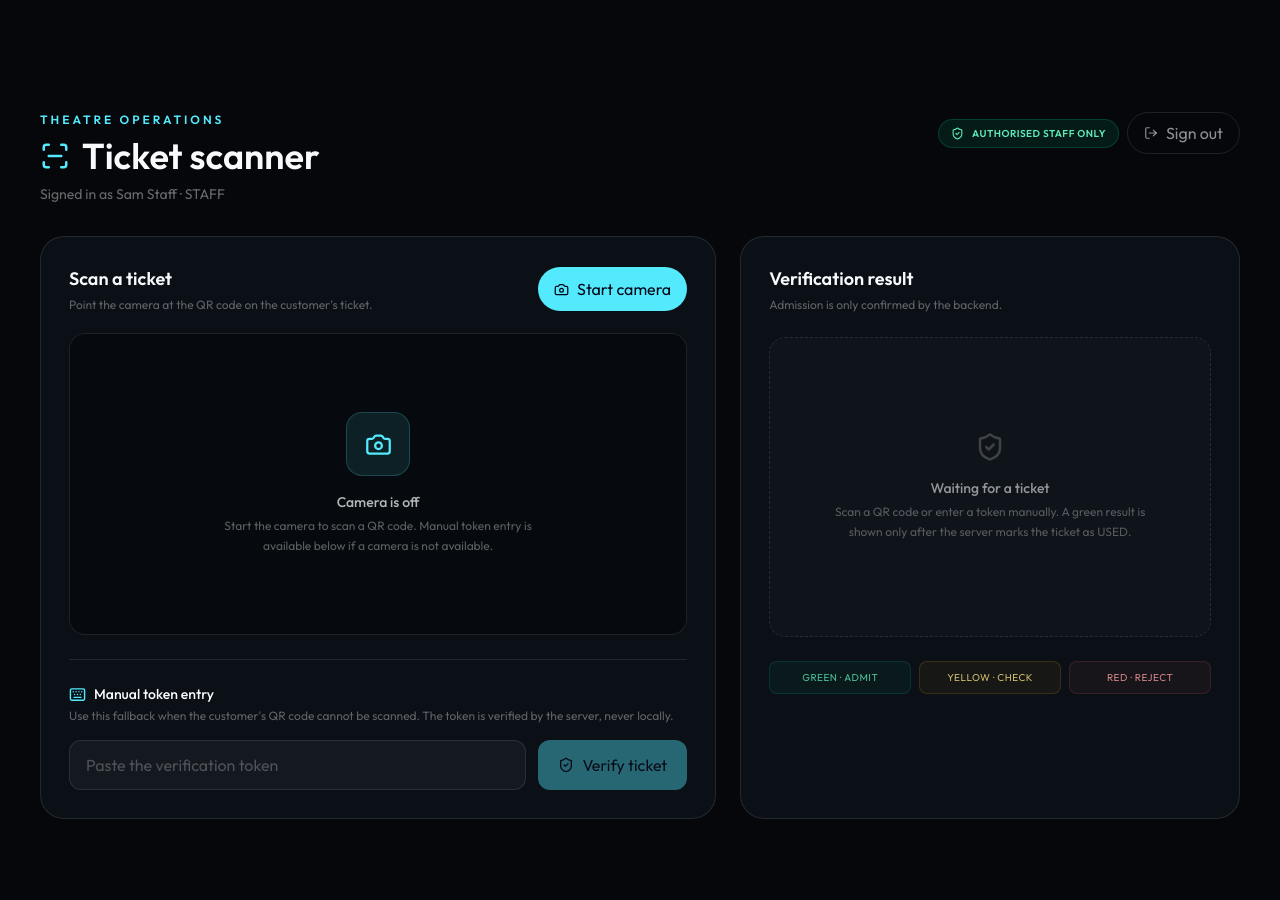
Staff scanner › shows a clear camera permission error
Click the button "Start camera": (613, 289) [538,267,687,311]
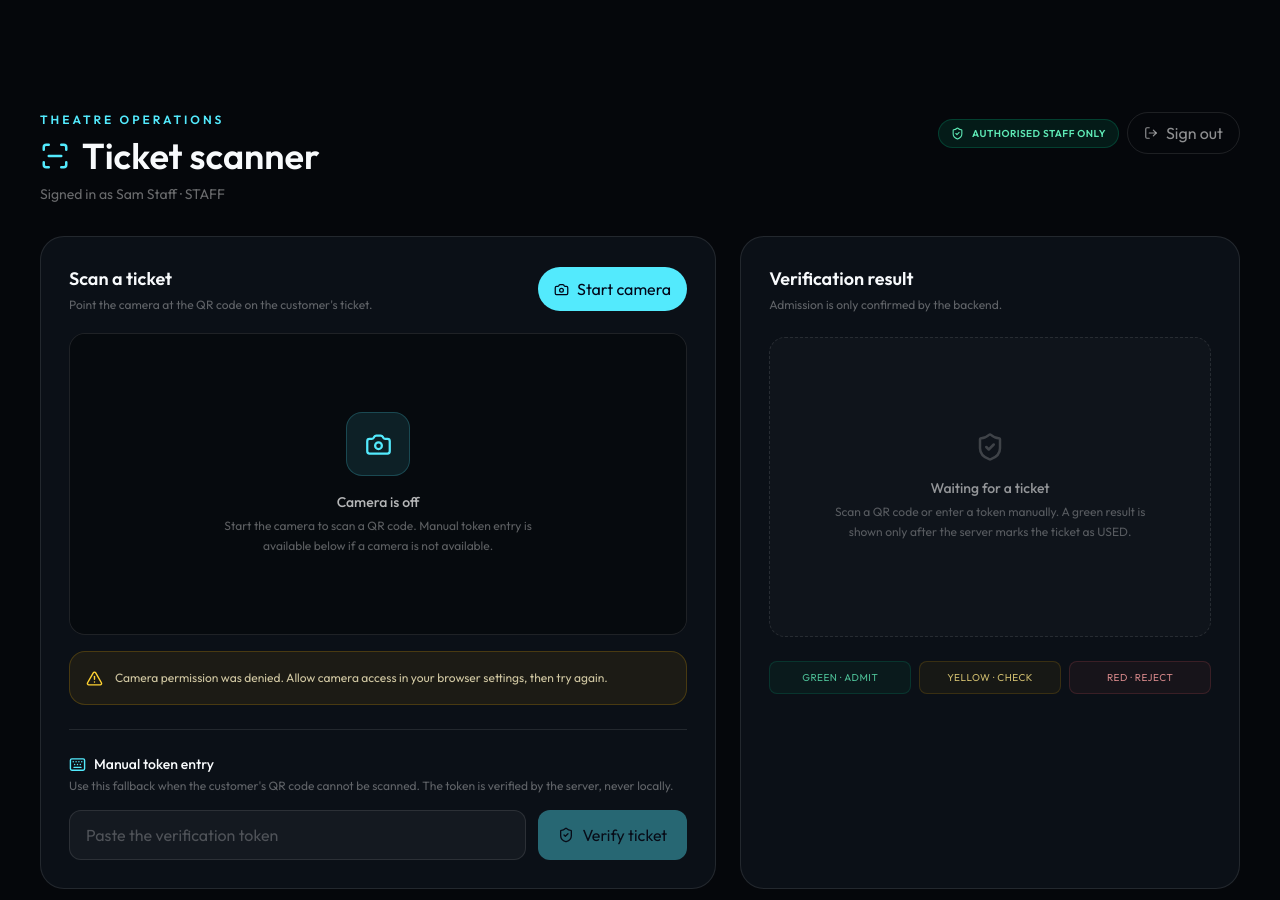
Check: the text "Camera permission was denied" is shown, box [115,670,608,685]
